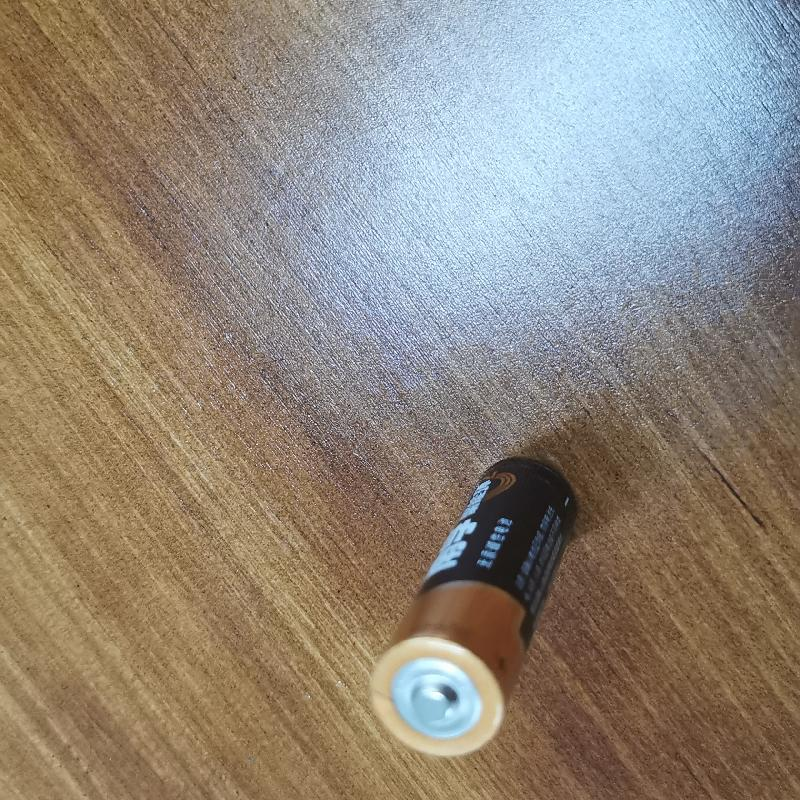battery: (365, 451, 578, 762)
